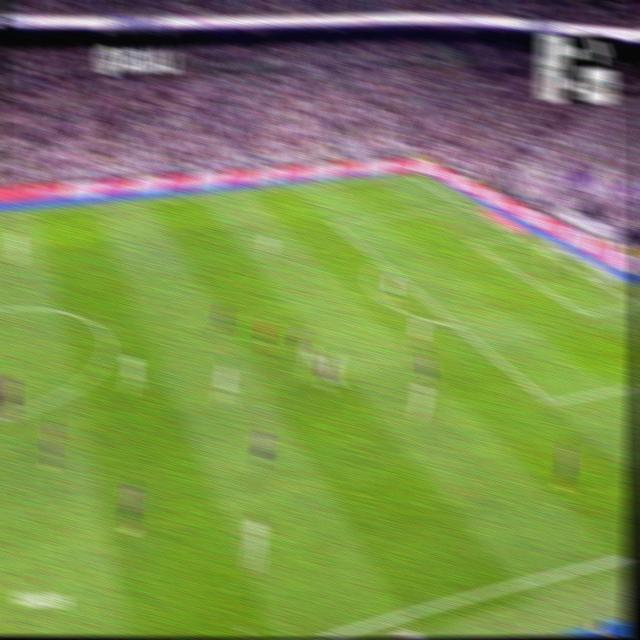bigarea_bottom_inner: (541, 390, 558, 412)
bigarea_top_inner: (329, 215, 341, 229)
bigarea_top_outter: (456, 198, 470, 211)
bottom_arc_area_intersection: (447, 315, 463, 332)
corner: (405, 170, 417, 179)
smallarea_bottom_inner: (578, 304, 591, 323)
smallarea_top_inner: (469, 236, 479, 247)
top_arc_area_intersection: (375, 254, 388, 268)
